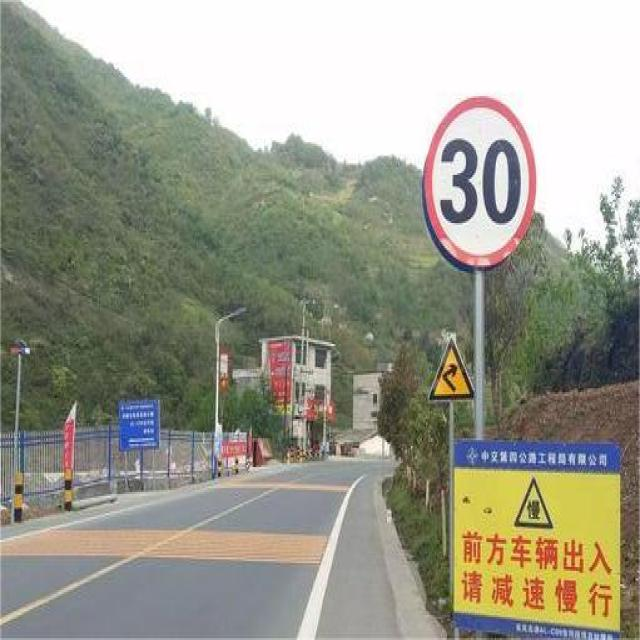speed limit 30: (424, 97, 538, 269)
